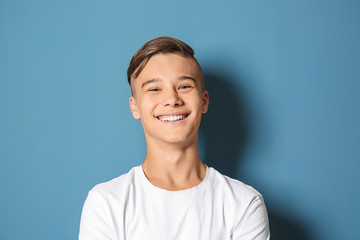teen: (119, 40, 211, 144)
